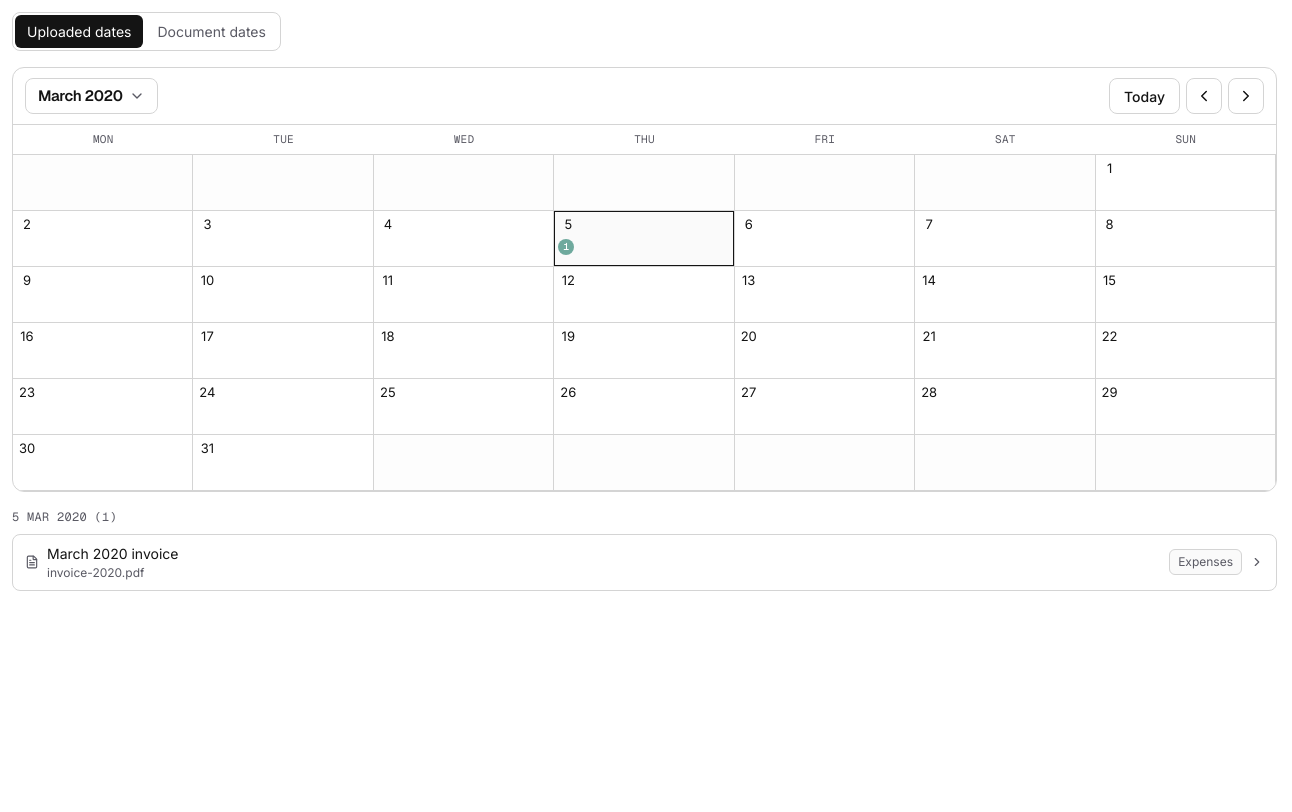
Test: DatesView keeps its view (DECISIONS #105) › a restored day survives mounting, and switching the basis clears it (an effect would have wiped it on mount)
This screenshot has width=1292, height=812.
Expected: the link "March 2020 invoice invoice-2020.pdf Expenses" is shown, [12,534,1277,590]
Click the button "Document dates" at point(212, 32), box [146,15,278,48]
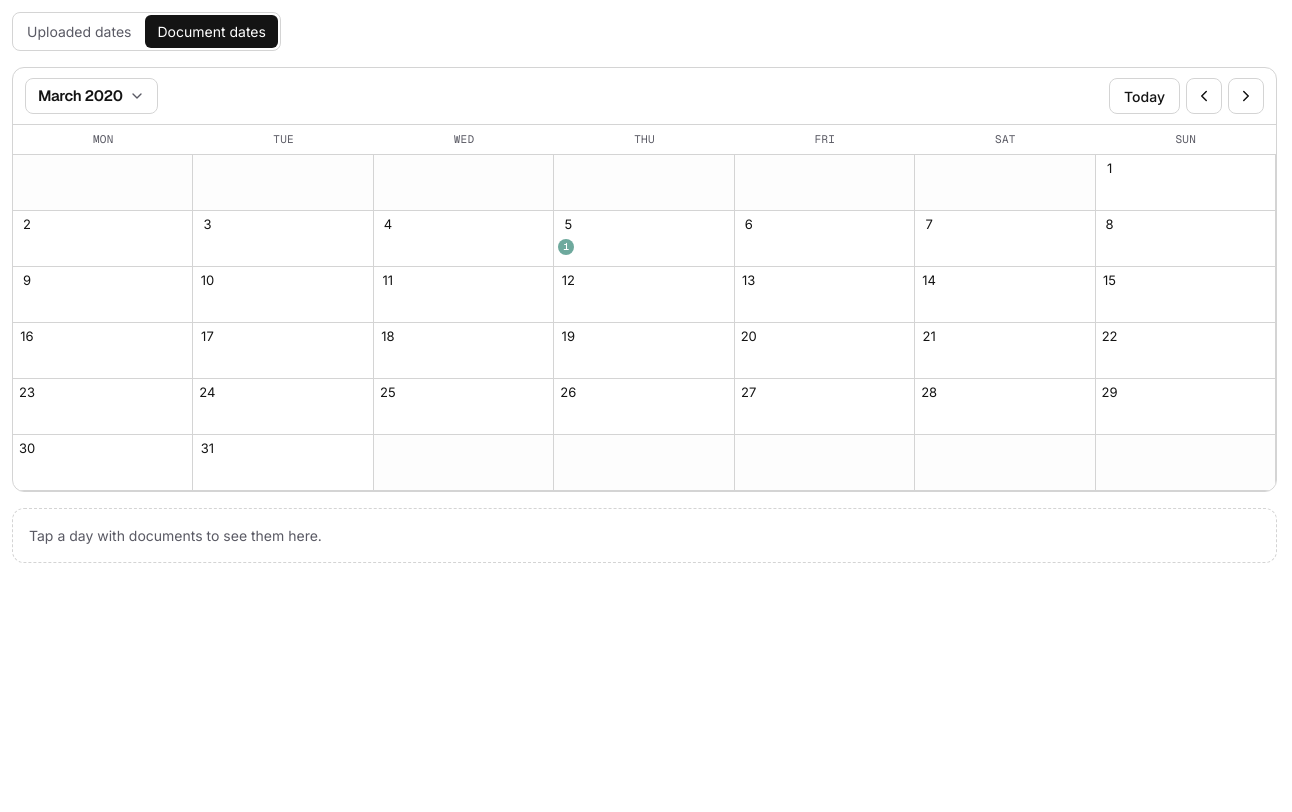
Expected: the link "March 2020 invoice" is gone
